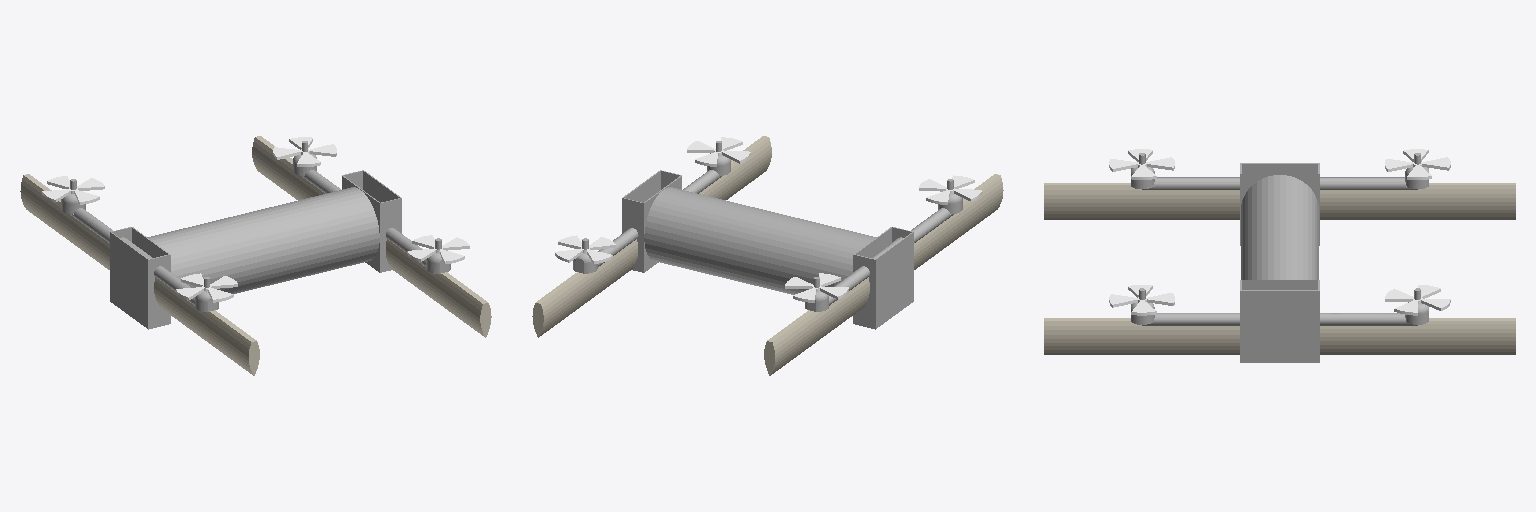
robot.urdf — drone:
<?xml version="1.0" encoding="utf-8"?>
<!-- This URDF was automatically created by SolidWorks to URDF Exporter! Originally created by [author] ([email redacted]) 
     Commit Version: 1.5.0-0-g9aa0fdb  Build Version: 1.5.7004.21443
     For more information, please see http://wiki.ros.org/sw_urdf_exporter -->
<robot
  name="drone">

  <gazebo>
          <plugin name="gazebo_ros_control" filename="libgazebo_ros_control.so">
          <robotNamespace>/drone</robotNamespace>
          </plugin>
  </gazebo>
<link name="dummy">
  </link>

  <link
    name="drone_body">
    <inertial>
      <origin
        xyz="-1.7501E-06 2.4502E-17 -0.0066791"
        rpy="0 0 0" />
      <mass
        value="0.16752" />
      <inertia
        ixx="0.00021488"
        ixy="-3.2235E-21"
        ixz="-3.733E-10"
        iyy="0.00066848"
        iyz="-2.1366E-20"
        izz="0.00067364" />
    </inertial>
    <visual>
      <origin
        xyz="0 0 0"
        rpy="0 0 0" />
      <geometry>
        <mesh
          filename="package://drone_description/meshes/drone_body.STL" />
      </geometry>
      <material
        name="">
        <color
          rgba="0.75294 0.75294 0.75294 1" />
      </material>
    </visual>
    <collision>
      <origin
        xyz="0 0 0"
        rpy="0 0 0" />
      <geometry>
        <mesh
          filename="package://drone_description/meshes/drone_body.STL" />
      </geometry>
    </collision>
  </link>
    <joint name="dummy_joint" type='fixed'>
          <parent link="dummy"/>
          <child link='drone_body'/>
  </joint>

  <link
    name="front_arm">
    <inertial>
      <origin
        xyz="1.1576E-05 -1.6877E-10 0.0052885"
        rpy="0 0 0" />
      <mass
        value="0.048886" />
      <inertia
        ixx="0.0001324"
        ixy="7.4485E-13"
        ixz="-4.5157E-11"
        iyy="2.6042E-06"
        iyz="-5.8498E-16"
        izz="0.00013238" />
    </inertial>
    <visual>
      <origin
        xyz="0 0 0"
        rpy="0 0 0" />
      <geometry>
        <mesh
          filename="package://drone_description/meshes/front_arm.STL" />
      </geometry>
      <material
        name="">
        <color
          rgba="0.75294 0.75294 0.75294 1" />
      </material>
    </visual>
    <collision>
      <origin
        xyz="0 0 0"
        rpy="0 0 0" />
      <geometry>
        <mesh
          filename="package://drone_description/meshes/front_arm.STL" />
      </geometry>
    </collision>
  </link>
  <joint
    name="front_arm_joint"
    type="continuous">
    <origin
      xyz="0.132698263875338 0 -0.00435186975500974"
      rpy="0 0 0" />
    <parent
      link="drone_body" />
    <child
      link="front_arm" />
    <axis
      xyz="0 1 0" />
    <safety_controller
      k_velocity="0" />
  </joint>
  <link
    name="front_right_prop">
    <inertial>
      <origin
        xyz="3.4747E-06 0 0.0015875"
        rpy="0 0 0" />
      <mass
        value="0.0050401" />
      <inertia
        ixx="1.2716E-06"
        ixy="0"
        ixz="2.7648E-09"
        iyy="1.2716E-06"
        iyz="0"
        izz="2.5348E-06" />
    </inertial>
    <visual>
      <origin
        xyz="0 0 0"
        rpy="0 0 0" />
      <geometry>
        <mesh
          filename="package://drone_description/meshes/front_right_prop.STL" />
      </geometry>
      <material
        name="">
        <color
          rgba="1 1 1 1" />
      </material>
    </visual>
    <collision>
      <origin
        xyz="0 0 0"
        rpy="0 0 0" />
      <geometry>
        <mesh
          filename="package://drone_description/meshes/front_right_prop.STL" />
      </geometry>
    </collision>
  </link>
  <joint
    name="front_right_prop_joint"
    type="continuous">
    <origin
      xyz="4.16969823919255E-05 -0.1325 0.0190499543663921"
      rpy="0 0 0" />
    <parent
      link="front_arm" />
    <child
      link="front_right_prop" />
    <axis
      xyz="0.00218881797337959 0 0.999997604535071" />
    <safety_controller
      k_velocity="0" />
  </joint>
  <link
    name="front_left_prop">
    <inertial>
      <origin
        xyz="3.4747E-06 0 0.0015875"
        rpy="0 0 0" />
      <mass
        value="0.0050401" />
      <inertia
        ixx="1.2716E-06"
        ixy="0"
        ixz="2.7648E-09"
        iyy="1.2716E-06"
        iyz="0"
        izz="2.5348E-06" />
    </inertial>
    <visual>
      <origin
        xyz="0 0 0"
        rpy="0 0 0" />
      <geometry>
        <mesh
          filename="package://drone_description/meshes/front_left_prop.STL" />
      </geometry>
      <material
        name="">
        <color
          rgba="1 1 1 1" />
      </material>
    </visual>
    <collision>
      <origin
        xyz="0 0 0"
        rpy="0 0 0" />
      <geometry>
        <mesh
          filename="package://drone_description/meshes/front_left_prop.STL" />
      </geometry>
    </collision>
  </link>
  <joint
    name="front_left_prop_joint"
    type="continuous">
    <origin
      xyz="4.16969823919811E-05 0.1325 0.0190499543663921"
      rpy="0 0 0" />
    <parent
      link="front_arm" />
    <child
      link="front_left_prop" />
    <axis
      xyz="0.00218881797337959 0 0.999997604535071" />
    <safety_controller
      k_velocity="0" />
  </joint>
  <link
    name="front_right_wing">
    <inertial>
      <origin
        xyz="1.9765E-07 3.6082E-16 8.4714E-05"
        rpy="0 0 0" />
      <mass
        value="0.010641" />
      <inertia
        ixx="3.2224E-05"
        ixy="8.3423E-12"
        ixz="-1.7271E-09"
        iyy="1.0035E-06"
        iyz="0"
        izz="3.1435E-05" />
    </inertial>
    <visual>
      <origin
        xyz="0 0 0"
        rpy="0 0 0" />
      <geometry>
        <mesh
          filename="package://drone_description/meshes/front_right_wing.STL" />
      </geometry>
      <material
        name="">
        <color
          rgba="0.84314 0.81569 0.75294 1" />
      </material>
    </visual>
    <collision>
      <origin
        xyz="0 0 0"
        rpy="0 0 0" />
      <geometry>
        <mesh
          filename="package://drone_description/meshes/front_right_wing.STL" />
      </geometry>
    </collision>
  </link>
  <joint
    name="front_right_wing_joint"
    type="fixed">
    <origin
      xyz="-3.72493042698485E-05 -0.1325 -0.0170179592339819"
      rpy="0 0 0" />
    <parent
      link="front_arm" />
    <child
      link="front_right_wing" />
    <axis
      xyz="0 0 0" />
    <safety_controller
      k_velocity="0" />
  </joint>
  <link
    name="front_left_wing">
    <inertial>
      <origin
        xyz="1.7418E-07 0 8.4714E-05"
        rpy="0 0 0" />
      <mass
        value="0.010641" />
      <inertia
        ixx="3.2224E-05"
        ixy="8.3423E-12"
        ixz="-1.728E-09"
        iyy="1.0035E-06"
        iyz="0"
        izz="3.1435E-05" />
    </inertial>
    <visual>
      <origin
        xyz="0 0 0"
        rpy="0 0 0" />
      <geometry>
        <mesh
          filename="package://drone_description/meshes/front_left_wing.STL" />
      </geometry>
      <material
        name="">
        <color
          rgba="0.84314 0.81569 0.75294 1" />
      </material>
    </visual>
    <collision>
      <origin
        xyz="0 0 0"
        rpy="0 0 0" />
      <geometry>
        <mesh
          filename="package://drone_description/meshes/front_left_wing.STL" />
      </geometry>
    </collision>
  </link>
  <joint
    name="front_left_wing_joint"
    type="fixed">
    <origin
      xyz="-3.72493042718469E-05 0.1325 -0.0170179592339789"
      rpy="0 0 0" />
    <parent
      link="front_arm" />
    <child
      link="front_left_wing" />
    <axis
      xyz="0 0 0" />
    <safety_controller
      k_velocity="0" />
  </joint>
  <link
    name="back_arm">
    <inertial>
      <origin
        xyz="1.7015E-05 -2.4791E-10 0.0052884"
        rpy="0 0 0" />
      <mass
        value="0.048886" />
      <inertia
        ixx="0.0001324"
        ixy="7.4488E-13"
        ixz="-6.5383E-11"
        iyy="2.6042E-06"
        iyz="-8.6142E-16"
        izz="0.00013238" />
    </inertial>
    <visual>
      <origin
        xyz="0 0 0"
        rpy="0 0 0" />
      <geometry>
        <mesh
          filename="package://drone_description/meshes/back_arm.STL" />
      </geometry>
      <material
        name="">
        <color
          rgba="0.75294 0.75294 0.75294 1" />
      </material>
    </visual>
    <collision>
      <origin
        xyz="0 0 0"
        rpy="0 0 0" />
      <geometry>
        <mesh
          filename="package://drone_description/meshes/back_arm.STL" />
      </geometry>
    </collision>
  </link>
  <joint
    name="back_arm_joint"
    type="continuous">
    <origin
      xyz="-0.132701764124662 0 0.0156480902449901"
      rpy="0 0 0" />
    <parent
      link="drone_body" />
    <child
      link="back_arm" />
    <axis
      xyz="0 -1 0" />
    <safety_controller
      k_velocity="0" />
  </joint>
  <link
    name="back_right_prop">
    <inertial>
      <origin
        xyz="5.1074E-06 -2.7756E-17 0.0015875"
        rpy="0 0 0" />
      <mass
        value="0.0050401" />
      <inertia
        ixx="1.2716E-06"
        ixy="0"
        ixz="4.0639E-09"
        iyy="1.2716E-06"
        iyz="0"
        izz="2.5348E-06" />
    </inertial>
    <visual>
      <origin
        xyz="0 0 0"
        rpy="0 0 0" />
      <geometry>
        <mesh
          filename="package://drone_description/meshes/back_right_prop.STL" />
      </geometry>
      <material
        name="">
        <color
          rgba="1 1 1 1" />
      </material>
    </visual>
    <collision>
      <origin
        xyz="0 0 0"
        rpy="0 0 0" />
      <geometry>
        <mesh
          filename="package://drone_description/meshes/back_right_prop.STL" />
      </geometry>
    </collision>
  </link>
  <joint
    name="back_right_prop_joint"
    type="continuous">
    <origin
      xyz="6.12892824355029E-05 -0.1325 0.0190499014071944"
      rpy="0 0 0" />
    <parent
      link="back_arm" />
    <child
      link="back_right_prop" />
    <axis
      xyz="0.00321728516721246 0 0.999994824524684" />
    <safety_controller
      k_velocity="0" />
  </joint>
  <link
    name="back_left_prop">
    <inertial>
      <origin
        xyz="5.1074E-06 0 0.0015875"
        rpy="0 0 0" />
      <mass
        value="0.0050401" />
      <inertia
        ixx="1.2716E-06"
        ixy="0"
        ixz="4.0639E-09"
        iyy="1.2716E-06"
        iyz="0"
        izz="2.5348E-06" />
    </inertial>
    <visual>
      <origin
        xyz="0 0 0"
        rpy="0 0 0" />
      <geometry>
        <mesh
          filename="package://drone_description/meshes/back_left_prop.STL" />
      </geometry>
      <material
        name="">
        <color
          rgba="1 1 1 1" />
      </material>
    </visual>
    <collision>
      <origin
        xyz="0 0 0"
        rpy="0 0 0" />
      <geometry>
        <mesh
          filename="package://drone_description/meshes/back_left_prop.STL" />
      </geometry>
    </collision>
  </link>
  <joint
    name="back_left_prop_joint"
    type="continuous">
    <origin
      xyz="6.1289E-05 0.1325 0.01905"
      rpy="0 0 0" />
    <parent
      link="back_arm" />
    <child
      link="back_left_prop" />
    <axis
      xyz="0.0032173 0 0.99999" />
    <safety_controller
      k_velocity="0" />
  </joint>
  <link
    name="back_right_wing">
    <inertial>
      <origin
        xyz="2.85E-07 2.7756E-17 8.4713E-05"
        rpy="0 0 0" />
      <mass
        value="0.010641" />
      <inertia
        ixx="3.2224E-05"
        ixy="0"
        ixz="-2.5389E-09"
        iyy="1.0035E-06"
        iyz="0"
        izz="3.1435E-05" />
    </inertial>
    <visual>
      <origin
        xyz="0 0 0"
        rpy="0 0 0" />
      <geometry>
        <mesh
          filename="package://drone_description/meshes/back_right_wing.STL" />
      </geometry>
      <material
        name="">
        <color
          rgba="0.84314 0.81569 0.75294 1" />
      </material>
    </visual>
    <collision>
      <origin
        xyz="0 0 0"
        rpy="0 0 0" />
      <geometry>
        <mesh
          filename="package://drone_description/meshes/back_right_wing.STL" />
      </geometry>
    </collision>
  </link>
  <joint
    name="back_right_wing_joint"
    type="fixed">
    <origin
      xyz="-5.47517589746978E-05 -0.1325 -0.0170179119237633"
      rpy="0 0 0" />
    <parent
      link="back_arm" />
    <child
      link="back_right_wing" />
    <axis
      xyz="0 0 0" />
    <safety_controller
      k_velocity="0" />
  </joint>
  <link
    name="back_left_wing">
    <inertial>
      <origin
        xyz="2.6154E-07 0 8.4714E-05"
        rpy="0 0 0" />
      <mass
        value="0.010641" />
      <inertia
        ixx="3.2224E-05"
        ixy="0"
        ixz="-2.5398E-09"
        iyy="1.0035E-06"
        iyz="0"
        izz="3.1435E-05" />
    </inertial>
    <visual>
      <origin
        xyz="0 0 0"
        rpy="0 0 0" />
      <geometry>
        <mesh
          filename="package://drone_description/meshes/back_left_wing.STL" />
      </geometry>
      <material
        name="">
        <color
          rgba="0.84314 0.81569 0.75294 1" />
      </material>
    </visual>
    <collision>
      <origin
        xyz="0 0 0"
        rpy="0 0 0" />
      <geometry>
        <mesh
          filename="package://drone_description/meshes/back_left_wing.STL" />
      </geometry>
    </collision>
  </link>
  <joint
    name="back_left_wing_joint"
    type="fixed">
    <origin
      xyz="-5.47517589748713E-05 0.1325 -0.0170179119237634"
      rpy="0 0 0" />
    <parent
      link="back_arm" />
    <child
      link="back_left_wing" />
    <axis
      xyz="0 0 0" />
    <safety_controller
      k_velocity="0" />
  </joint>
<transmission name="front_arm_transmission">
          <type>transmission_interface/SimpleTransmission</type>
          <joint name="front_arm_joint">
                <hardwareInterface>hardware_interface/EffortJointInterface</hardwareInterface>
          </joint>
          <actuator name="front_arm_motor">
                <hardwareInterface>hardware_interface/EffortJointInterface</hardwareInterface>
          <mechanicalReduction>1</mechanicalReduction>
          </actuator>
  </transmission>
  <transmission name="back_arm_transmission">
          <type>transmission_interface/SimpleTransmission</type>
          <joint name="back_arm_joint">
                <hardwareInterface>hardware_interface/EffortJointInterface</hardwareInterface>
          </joint>
          <actuator name="front_arm_motor">
                <hardwareInterface>hardware_interface/EffortJointInterface</hardwareInterface>
          <mechanicalReduction>1</mechanicalReduction>
          </actuator>
  </transmission>
  <transmission name="front_right_prop_transmission">
          <type>transmission_interface/SimpleTransmission</type>
          <joint name="front_right_prop_joint">
                <hardwareInterface>hardware_interface/EffortJointInterface</hardwareInterface>
          </joint>
          <actuator name="front_right_motor">
                <hardwareInterface>hardware_interface/EffortJointInterface</hardwareInterface>
          <mechanicalReduction>1</mechanicalReduction>
          </actuator>
  </transmission>
  <transmission name="front_left_prop_transmission">
          <type>transmission_interface/SimpleTransmission</type>
          <joint name="front_left_prop_joint">
                <hardwareInterface>hardware_interface/EffortJointInterface</hardwareInterface>
          </joint>
          <actuator name="front_left_motor">
                <hardwareInterface>hardware_interface/EffortJointInterface</hardwareInterface>
          <mechanicalReduction>1</mechanicalReduction>
          </actuator>
  </transmission>
  <transmission name="back_right_prop_transmission">
          <type>transmission_interface/SimpleTransmission</type>
          <joint name="back_right_prop_joint">
                <hardwareInterface>hardware_interface/EffortJointInterface</hardwareInterface>
          </joint>
          <actuator name="back_right_motor">
                <hardwareInterface>hardware_interface/EffortJointInterface</hardwareInterface>
          <mechanicalReduction>1</mechanicalReduction>
          </actuator>
  </transmission>
  <transmission name="back_left_prop_transmission">
          <type>transmission_interface/SimpleTransmission</type>
          <joint name="back_left_prop_joint">
                <hardwareInterface>hardware_interface/EffortJointInterface</hardwareInterface>
          </joint>
          <actuator name="back_left_motor">
                <hardwareInterface>hardware_interface/EffortJointInterface</hardwareInterface>
          <mechanicalReduction>1</mechanicalReduction>
          </actuator>
  </transmission>
  <gazebo>
        <plugin name='gazebo_ros_force' filename='libgazebo_ros_force.so'>
                <alwaysON>true</alwaysON>
                <update>100</update>
                <updateRate>100.0</updateRate>
                <bodyName>front_right_prop</bodyName>
                <topicName>drone/front_right_motor_thrust</topicName>
        </plugin>
        <plugin name='gazebo_ros_force' filename='libgazebo_ros_force.so'>
                <alwaysON>true</alwaysON>
                <update>100</update>
                <updateRate>100.0</updateRate>
                <bodyName>front_left_prop</bodyName>
                <topicName>drone/front_left_motor_thrust</topicName>
        </plugin>
        <plugin name='gazebo_ros_force' filename='libgazebo_ros_force.so'>
                <alwaysON>true</alwaysON>
                <update>100</update>
                <updateRate>100.0</updateRate>
                <bodyName>back_right_prop</bodyName>
                <topicName>drone/back_right_motor_thrust</topicName>
        </plugin>
        <plugin name='gazebo_ros_force' filename='libgazebo_ros_force.so'>
                <alwaysON>true</alwaysON>
                <update>100</update>
                <updateRate>100.0</updateRate>
                <bodyName>back_left_prop</bodyName>
                <topicName>drone/back_left_motor_thrust</topicName>
        </plugin>
        <plugin name='gazebo_ros_force' filename='libgazebo_ros_force.so'>
                <alwaysON>true</alwaysON>
                <update>100</update>
                <updateRate>100.0</updateRate>
                <bodyName>drone_body</bodyName>
                <topicName>drone/drone_body_force</topicName>
        </plugin>
        <plugin name="imu_controller" filename="libgazebo_ros_imu.so">
                <alwaysON>true</alwaysON>
                <update>100</update>
                <updateRate>50.0</updateRate>
                <bodyName>drone_body</bodyName>
                <topicName>drone/imu_data</topicName>
                <gaussianNoise>2.89e-08</gaussianNoise>
                <xyzOffsets> 0 0 0 </xyzOffsets>
                <rpyOffsets> 0 0 0 </rpyOffsets>
        </plugin>
  </gazebo>

</robot>

--- What the picture shows (computed from the rendered views, not written in the file) ---
The picture shows the robot from 3 angles, left to right: view 1: azimuth 30°, elevation 25°; view 2: azimuth 150°, elevation 25°; view 3: azimuth 270°, elevation 25°; orthographic projection.
Model drone with 12 links and 11 joints (6 continuous, 5 fixed), rooted at dummy, posed all joints at 0.
Links seen in each view (by area): view 1: drone_body, back_right_wing, front_right_wing, back_left_wing, front_left_wing, back_arm, front_arm, back_left_prop, back_right_prop, front_right_prop, front_left_prop; view 2: drone_body, back_left_wing, front_left_wing, back_right_wing, front_right_wing, back_arm, front_arm, front_left_prop, back_left_prop, front_right_prop, back_right_prop; view 3: drone_body, back_right_wing, back_left_wing, front_right_wing, front_left_wing, front_arm, back_arm, front_left_prop, back_left_prop, back_right_prop, front_right_prop.
Link boxes in pixels (bbox=[...]): drone_body: bbox=[110, 170, 401, 329]; back_right_wing: bbox=[154, 277, 259, 375]; front_right_wing: bbox=[386, 239, 491, 337]; back_left_wing: bbox=[20, 174, 109, 269]; front_left_wing: bbox=[252, 136, 324, 199]; back_arm: bbox=[61, 179, 218, 311]; front_arm: bbox=[293, 141, 450, 273]; back_left_prop: bbox=[42, 176, 104, 204]; back_right_prop: bbox=[176, 273, 237, 302]; front_right_prop: bbox=[407, 235, 469, 263]; front_left_prop: bbox=[273, 137, 336, 166]; drone_body: bbox=[622, 170, 913, 329]; back_left_wing: bbox=[764, 277, 869, 375]; front_left_wing: bbox=[532, 239, 637, 337]; back_right_wing: bbox=[914, 174, 1003, 269]; front_right_wing: bbox=[699, 136, 771, 199]; back_arm: bbox=[805, 179, 962, 311]; front_arm: bbox=[573, 141, 730, 273]; front_left_prop: bbox=[555, 235, 615, 263]; back_left_prop: bbox=[785, 273, 848, 302]; front_right_prop: bbox=[687, 137, 750, 166]; back_right_prop: bbox=[919, 175, 981, 204]; drone_body: bbox=[1240, 163, 1319, 362]; back_right_wing: bbox=[1044, 183, 1239, 219]; back_left_wing: bbox=[1320, 183, 1515, 219]; front_right_wing: bbox=[1044, 318, 1239, 354]; front_left_wing: bbox=[1320, 318, 1515, 354]; front_arm: bbox=[1131, 288, 1428, 325]; back_arm: bbox=[1131, 153, 1428, 189]; front_left_prop: bbox=[1385, 285, 1450, 315]; back_left_prop: bbox=[1385, 149, 1450, 179]; back_right_prop: bbox=[1109, 149, 1174, 179]; front_right_prop: bbox=[1109, 285, 1174, 315].
Bounding box of the posed robot: 0.3289 × 0.453 × 0.0918 m (x, y, z).
11 mesh visuals loaded from 11 distinct referenced files (11 binary STL).